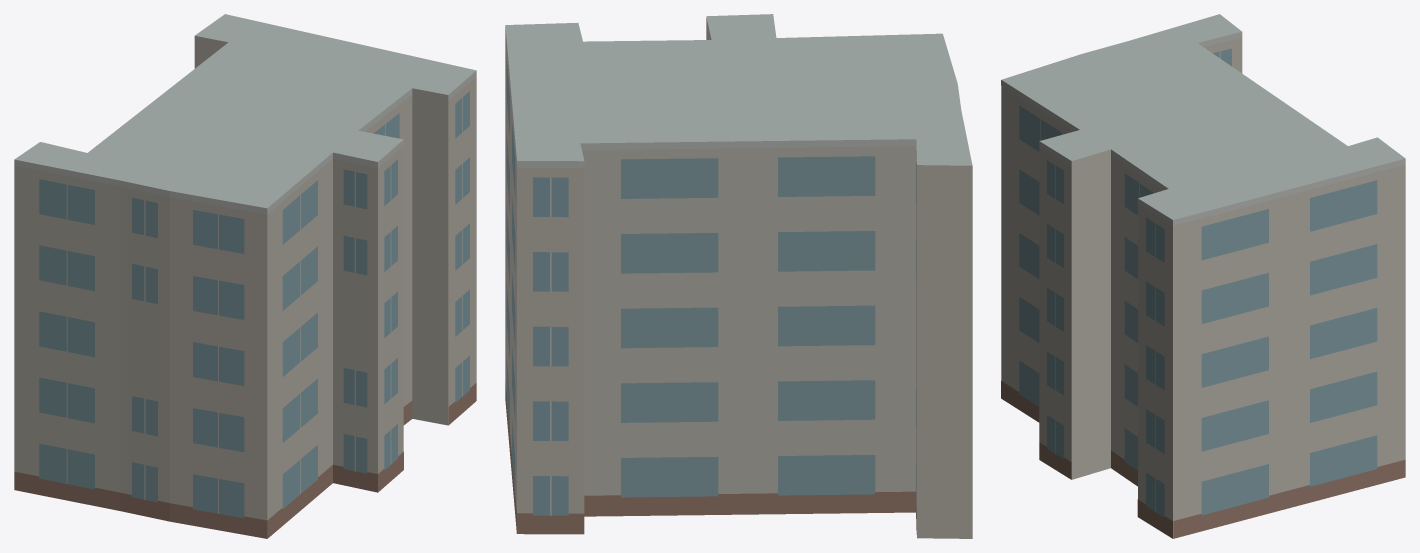
The model's file is survey-upis-32757385.glb.
3 views of the same model, side by side, from view 1: azimuth 30°, elevation 25°; view 2: azimuth 150°, elevation 25°; view 3: azimuth 270°, elevation 25° (orthographic). The views are drawn at different scales.
Parts seen in each view (by area): view 1: survey-upis-32757385.tmp; view 2: survey-upis-32757385.tmp; view 3: survey-upis-32757385.tmp.
Boxes of the visible parts, <box> form: survey-upis-32757385.tmp: <box>14,14,476,538</box>; survey-upis-32757385.tmp: <box>505,14,972,538</box>; survey-upis-32757385.tmp: <box>1001,14,1405,538</box>.
Bounding box in the file's own units: 18.31 × 13.2 × 15.19.
